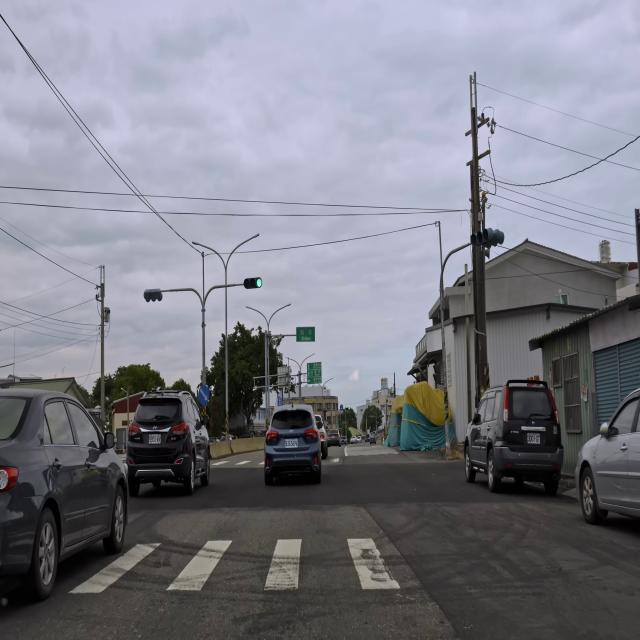green light: (243, 278, 263, 290)
